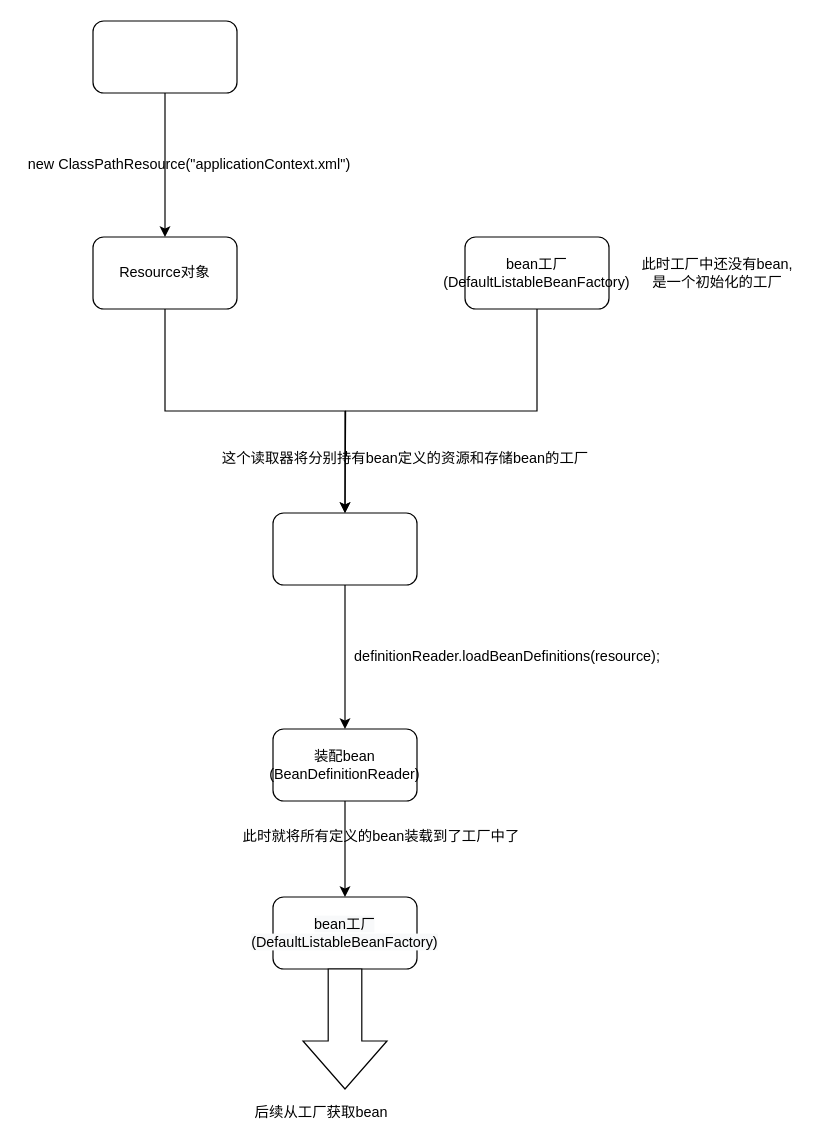
The diagram is 821 pixels wide and 1146 high, and some of its shapes have lost their labels. The shapes that lost their labels are listed below. From the top down, each one's centre as x and y in pixels, then its label:
At pixel 164 56: "定义bean的资源(xml配置文件等)".
At pixel 344 548: "读取器或者装配器 (BeanDefinitionReader)".
